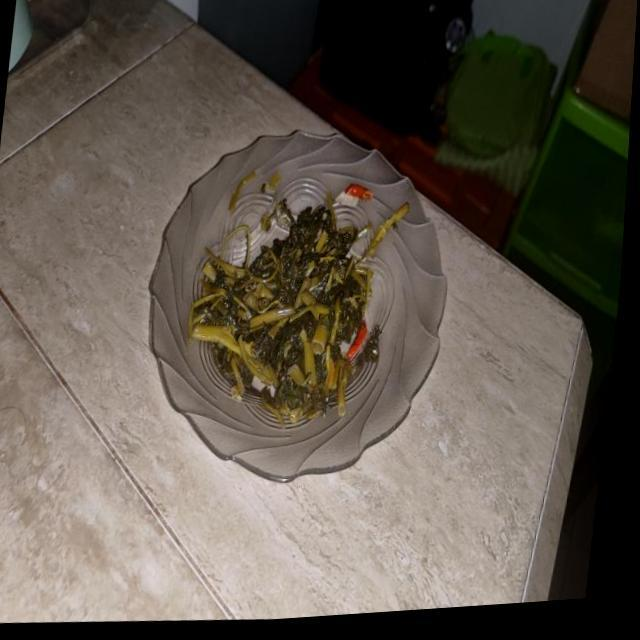tumis_kangkung: (188, 192, 373, 426)
